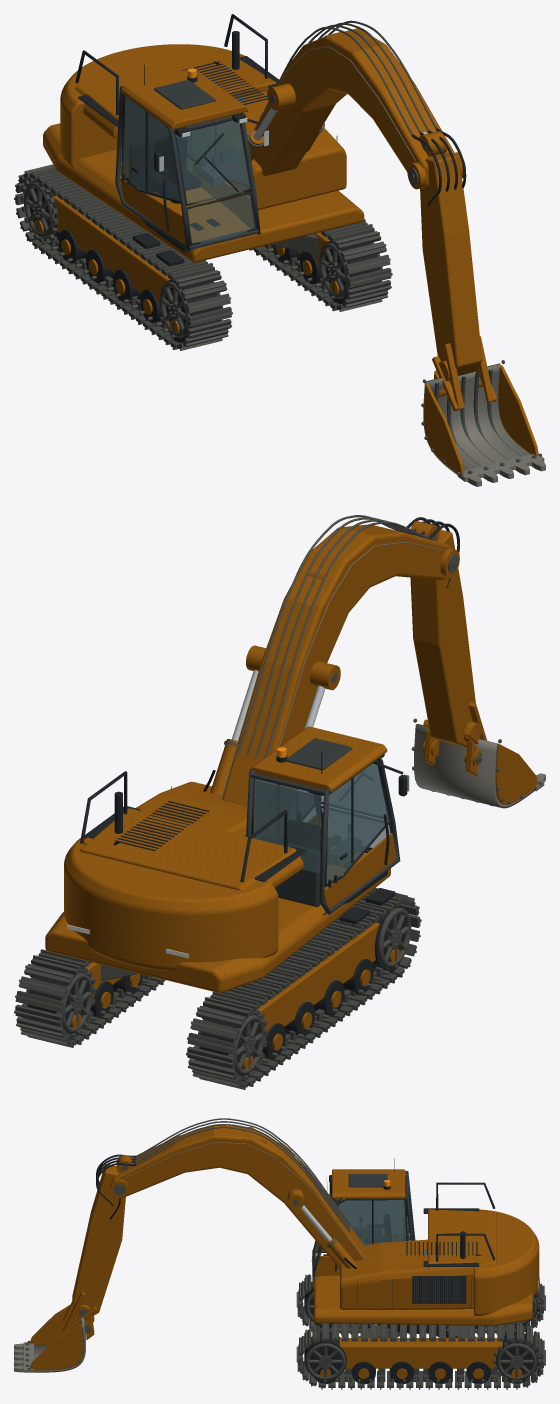
The model's file is excavator.glb.
The picture shows the model from 3 angles, top to bottom: view 1: azimuth 30°, elevation 25°; view 2: azimuth 150°, elevation 25°; view 3: azimuth 270°, elevation 25°; orthographic projection. The views are drawn at different scales.
Parts seen in each view (by area): view 1: track_-1, upper, boom, cab_glass, engine_cover, bucket, stick, track_1, cab_frame, cab_roof, operator, hydraulics (+1 smaller); view 2: upper, track_-1, boom, engine_cover, cab_glass, stick, track_1, bucket, cab_roof, cab_frame, hydraulics, operator; view 3: track_1, boom, engine_cover, upper, stick, bucket, cab_glass, cab_roof, track_-1, hydraulics, cab_frame, operator (+1 smaller).
Boxes of the visible parts, x1,y1,x2,y2 form: track_-1: [14, 164, 232, 350]; upper: [43, 44, 364, 266]; boom: [253, 20, 466, 205]; cab_glass: [121, 94, 256, 245]; engine_cover: [75, 14, 346, 209]; bucket: [421, 360, 545, 486]; stick: [420, 152, 496, 411]; track_1: [249, 219, 392, 311]; cab_frame: [115, 86, 260, 251]; cab_roof: [120, 64, 268, 171]; operator: [129, 135, 235, 252]; hydraulics: [225, 32, 494, 409]; upper: [45, 806, 395, 992]; track_-1: [186, 888, 421, 1089]; boom: [220, 515, 459, 806]; engine_cover: [79, 771, 303, 890]; cab_glass: [251, 760, 391, 886]; stick: [410, 529, 481, 746]; track_1: [14, 949, 165, 1047]; bucket: [411, 718, 545, 808]; cab_roof: [250, 726, 409, 796]; cab_frame: [246, 757, 400, 914]; hydraulics: [203, 521, 486, 794]; operator: [260, 791, 387, 915]; track_1: [296, 1322, 545, 1389]; boom: [96, 1118, 365, 1268]; engine_cover: [340, 1182, 496, 1309]; upper: [314, 1208, 539, 1325]; stick: [63, 1164, 125, 1333]; bucket: [14, 1304, 94, 1372]; cab_glass: [311, 1175, 409, 1272]; cab_roof: [326, 1158, 405, 1206]; track_-1: [296, 1274, 545, 1334]; hydraulics: [63, 1134, 357, 1331]; cab_frame: [312, 1171, 415, 1276]; operator: [323, 1214, 408, 1255].
Bounding box in the file's own units: 3.14 × 4.8 × 9.68.
Materials: 16 (3 with a texture image).
